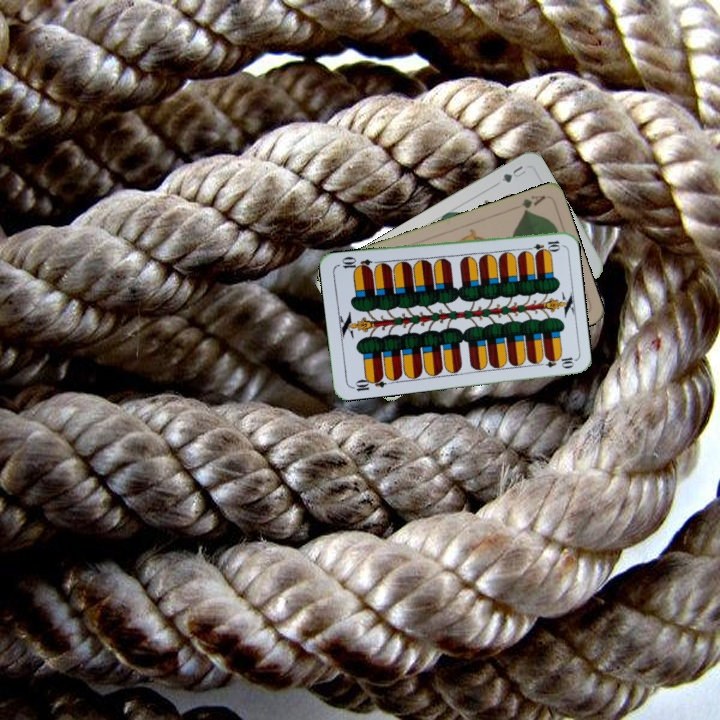E10: (348, 372, 388, 394), (522, 236, 563, 254)
GA: (517, 191, 548, 215)
GU: (497, 161, 529, 185)
